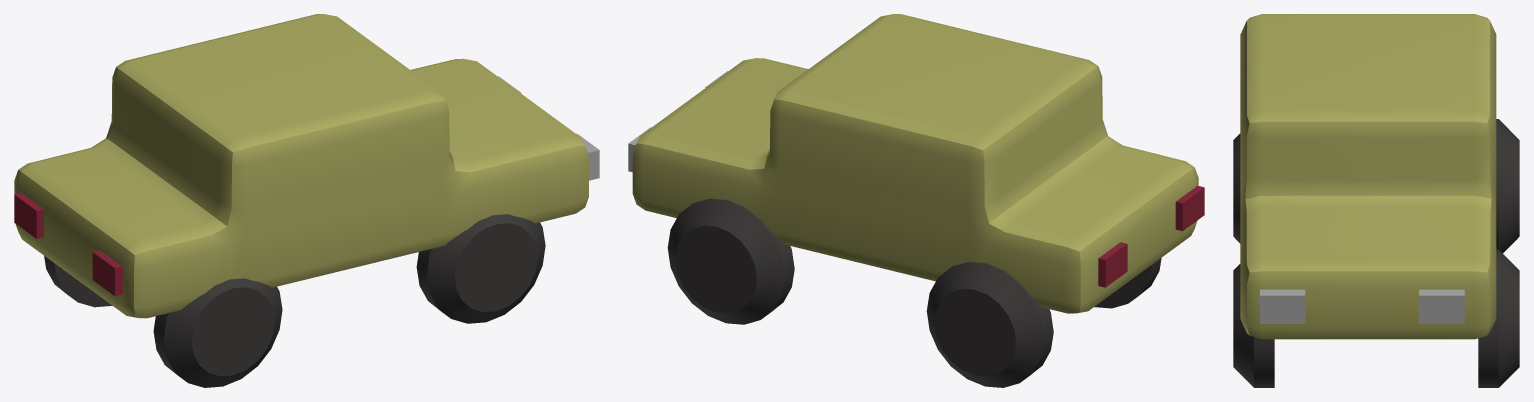
The model's file is voiture.fbx.
3 renders of one model, left to right at view 1: azimuth 30°, elevation 25°; view 2: azimuth 150°, elevation 25°; view 3: azimuth 270°, elevation 25°, orthographic. The views are drawn at different scales.
Parts seen in each view (by area): view 1: pCube210, pCylinder11, pCylinder12, pCylinder13, pCube214, pCube213; view 2: pCube210, pCylinder13, pCylinder14, pCylinder12, pCube213, pCube214; view 3: pCube210, pCylinder14, pCylinder13, pCylinder11, pCube212, pCube211, pCylinder12.
Part boxes in pixels (bbox=[...]): pCube210: bbox=[14, 14, 588, 318]; pCylinder11: bbox=[416, 214, 545, 323]; pCylinder12: bbox=[153, 278, 282, 387]; pCylinder13: bbox=[44, 256, 112, 307]; pCube214: bbox=[92, 250, 122, 296]; pCube213: bbox=[14, 193, 43, 238]; pCube210: bbox=[632, 14, 1198, 313]; pCylinder13: bbox=[926, 262, 1053, 387]; pCylinder14: bbox=[667, 198, 794, 324]; pCylinder12: bbox=[1094, 258, 1161, 308]; pCube213: bbox=[1098, 242, 1127, 287]; pCube214: bbox=[1175, 185, 1204, 230]; pCube210: bbox=[1240, 14, 1496, 339]; pCylinder14: bbox=[1478, 249, 1519, 387]; pCylinder13: bbox=[1496, 119, 1519, 253]; pCylinder11: bbox=[1233, 264, 1274, 387]; pCube212: bbox=[1419, 289, 1464, 323]; pCube211: bbox=[1260, 289, 1305, 323]; pCylinder12: bbox=[1233, 133, 1240, 243].
Bounding box in the file's own units: 8.16 × 3.89 × 4.1.
